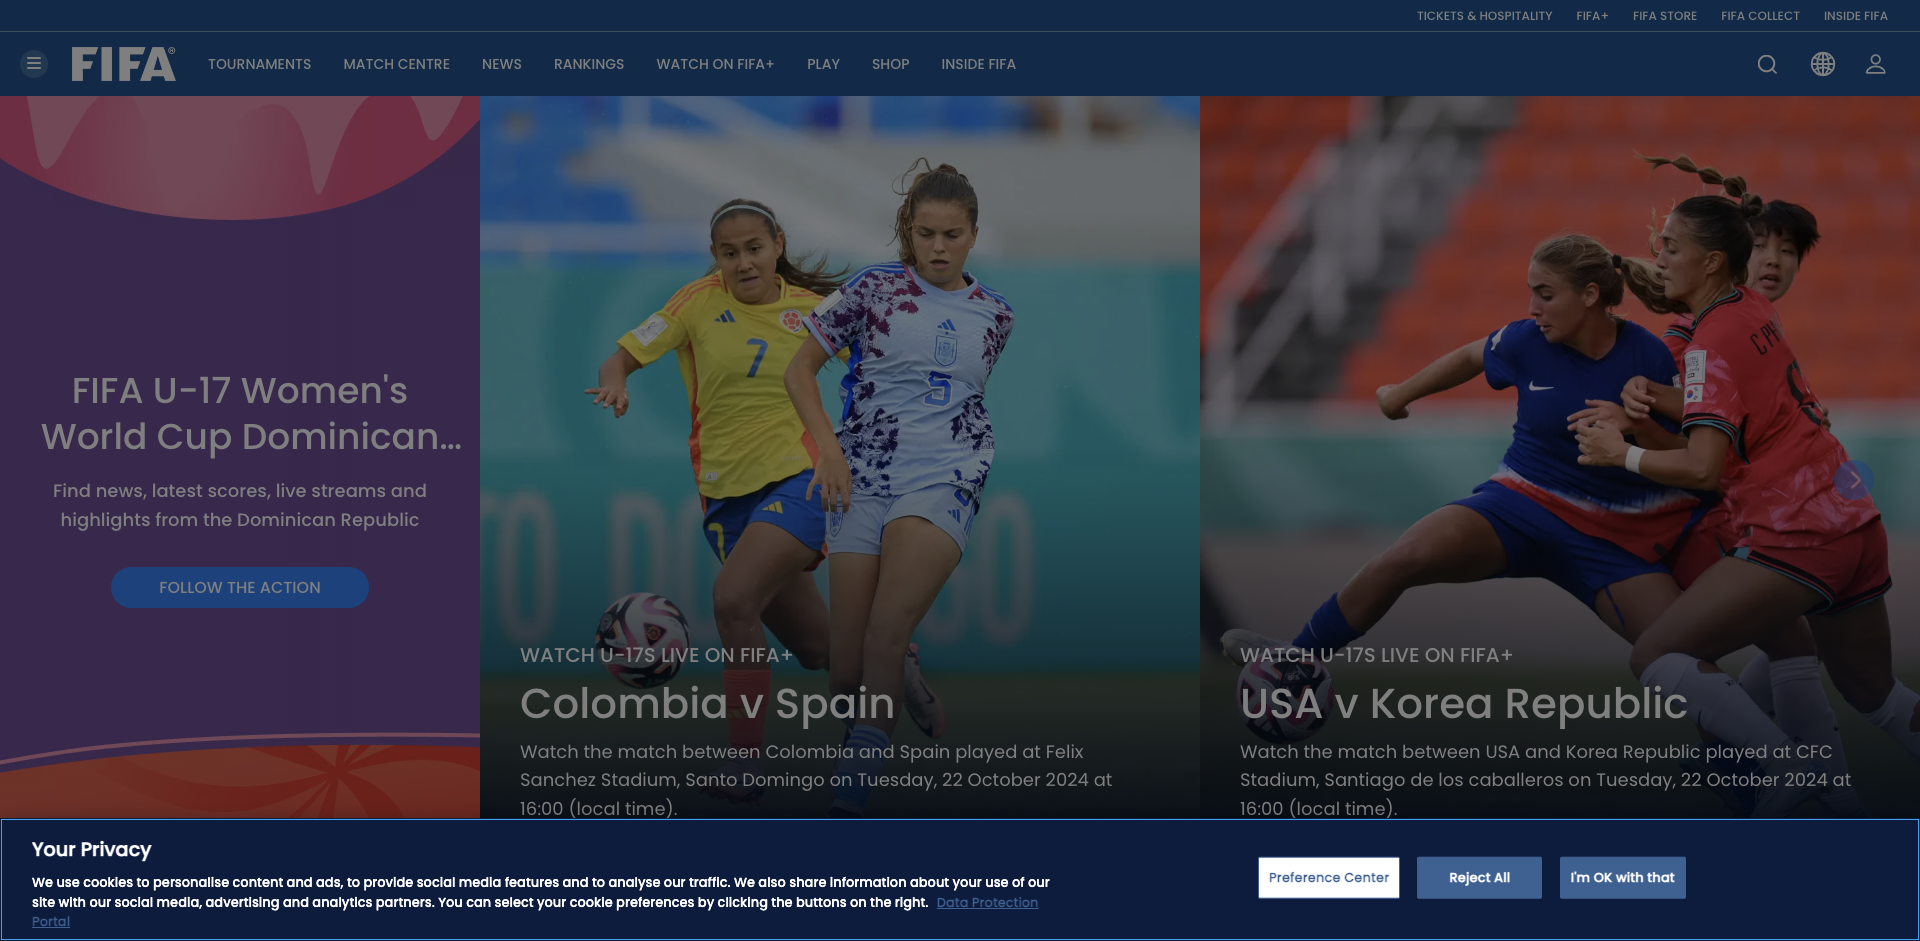button: (1056, 844, 1900, 914), (111, 567, 369, 609), (1258, 856, 1401, 898), (1560, 856, 1686, 898), (1418, 856, 1543, 898), (1828, 459, 1880, 501), (1855, 44, 1896, 85), (1807, 49, 1838, 78), (20, 50, 48, 78), (27, 58, 40, 59), (27, 62, 40, 64), (27, 67, 40, 69)
dropdown: (1790, 49, 1855, 78), (1807, 49, 1838, 78)
link: (480, 96, 1200, 864), (1200, 96, 1920, 864), (32, 892, 1038, 930), (72, 32, 176, 96), (1417, 6, 1553, 23), (343, 58, 451, 71), (1722, 6, 1800, 23), (1633, 6, 1697, 23), (1824, 6, 1888, 23), (553, 58, 624, 71), (1576, 6, 1609, 23), (482, 58, 522, 71), (80, 940, 504, 941), (1400, 940, 1824, 941), (520, 940, 944, 941), (960, 940, 1384, 941), (1758, 54, 1782, 74), (1840, 940, 1920, 941)
